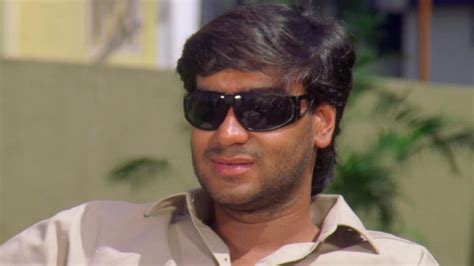sem_capacete: (174, 8, 340, 214)
